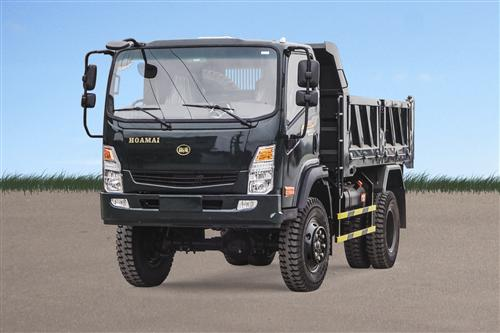truck: (78, 36, 416, 290)
